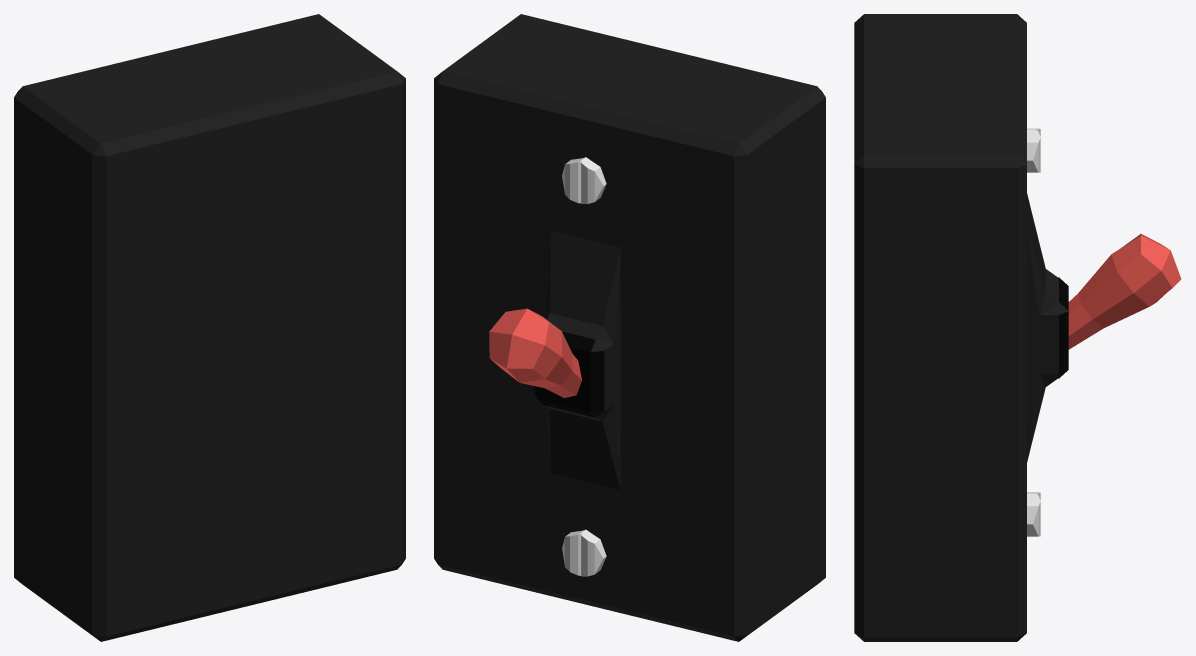
The model's file is switch_off.fbx.
3 renders of one model, left to right at view 1: azimuth 30°, elevation 25°; view 2: azimuth 150°, elevation 25°; view 3: azimuth 270°, elevation 25°, orthographic. The views are drawn at different scales.
Parts seen in each view (by area): view 1: Cylinder.013; view 2: Cylinder.013; view 3: Cylinder.013.
Boxes of the visible parts, x1,y1,x2,y2 form: Cylinder.013: (14, 14, 405, 641); Cylinder.013: (434, 14, 825, 641); Cylinder.013: (854, 14, 1181, 641).
Bounding box in the file's own units: 80.98 × 123 × 74.91.
